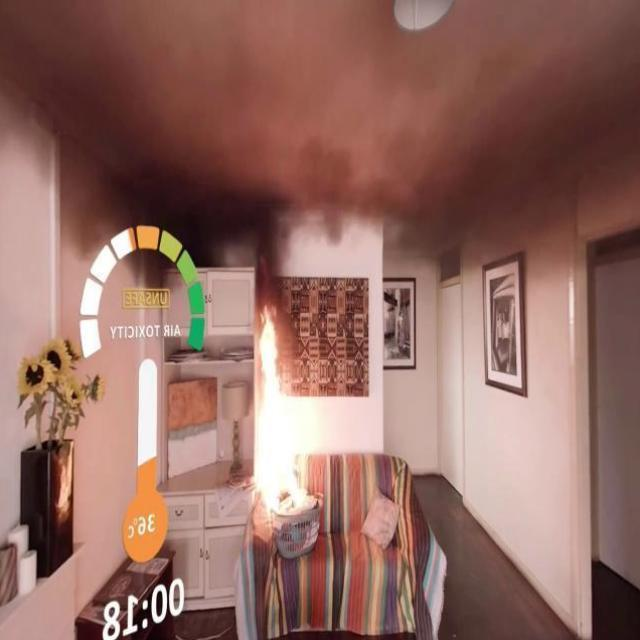fire: (70, 140, 358, 272), (377, 150, 640, 271)
smoke: (252, 284, 312, 522)
